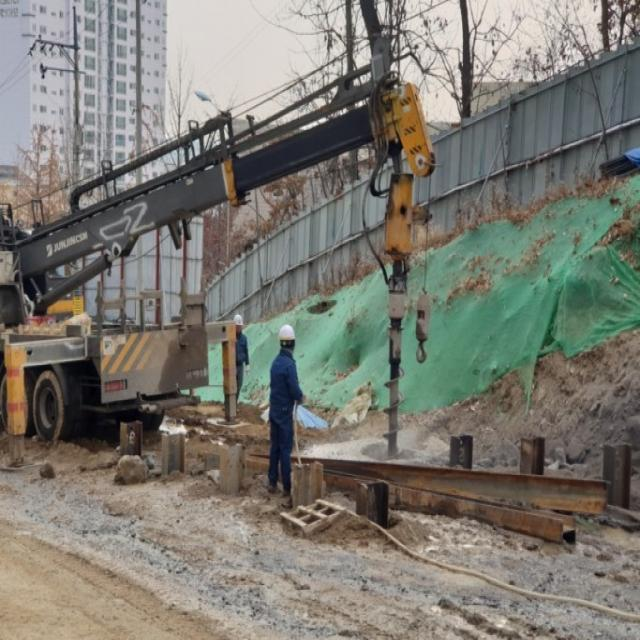pile: (382, 292, 405, 454)
steel: (248, 453, 611, 515), (324, 470, 578, 544), (604, 440, 632, 509), (161, 426, 185, 474), (520, 437, 545, 475), (119, 420, 142, 457), (450, 435, 473, 469)
